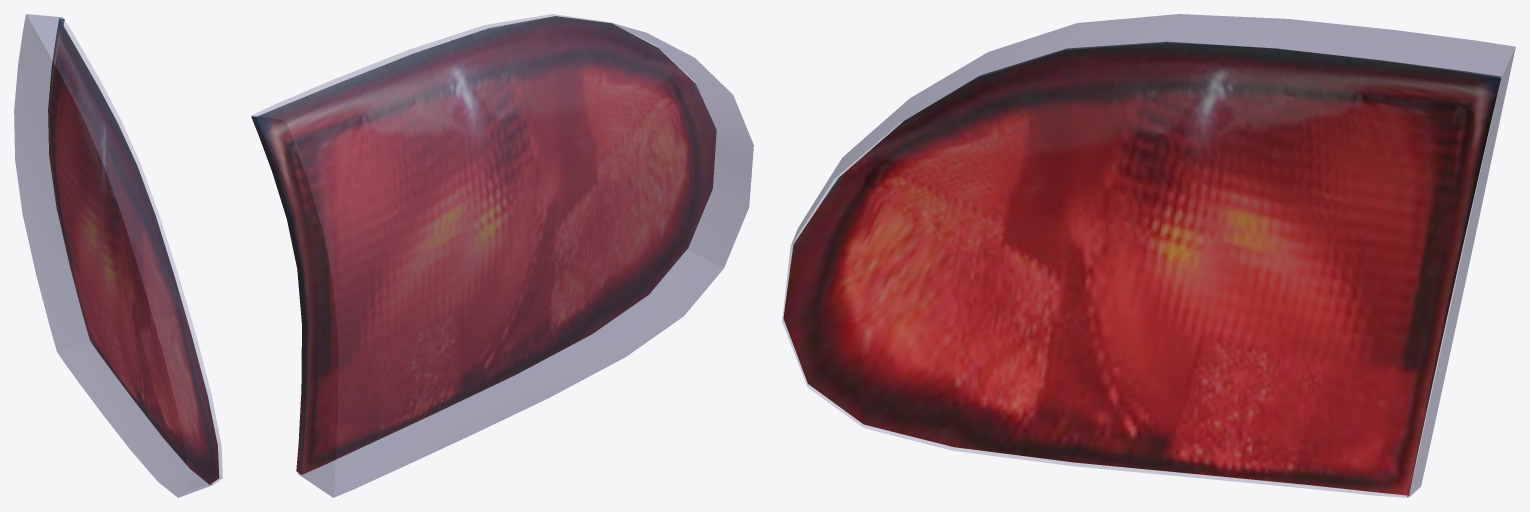
The picture shows the model from 3 angles, left to right: view 1: azimuth 30°, elevation 25°; view 2: azimuth 150°, elevation 25°; view 3: azimuth 270°, elevation 25°; orthographic projection. The views are drawn at different scales.
Parts seen in each view (by area): view 1: U234_541D_L_U234_541D_L_2_DTaSI, U234_541D_L_1_N_U234_541D_L; view 2: U234_541D_L_U234_541D_L_2_DTaSI, U234_541D_L_1_N_U234_541D_L; view 3: U234_541D_L_1_N_U234_541D_L, U234_541D_L_U234_541D_L_2_DTaSI.
Part boxes in pixels (bbox=[...]): U234_541D_L_U234_541D_L_2_DTaSI: bbox=[14, 14, 222, 497]; U234_541D_L_1_N_U234_541D_L: bbox=[48, 18, 219, 484]; U234_541D_L_U234_541D_L_2_DTaSI: bbox=[252, 14, 753, 497]; U234_541D_L_1_N_U234_541D_L: bbox=[251, 16, 716, 474]; U234_541D_L_1_N_U234_541D_L: bbox=[783, 41, 1501, 496]; U234_541D_L_U234_541D_L_2_DTaSI: bbox=[782, 14, 1515, 497].
Size of the model in its own units: 8.87 by 19.44 by 29.14.
